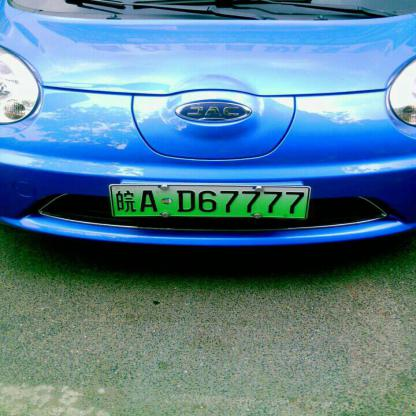lp: (110, 186, 307, 217)
